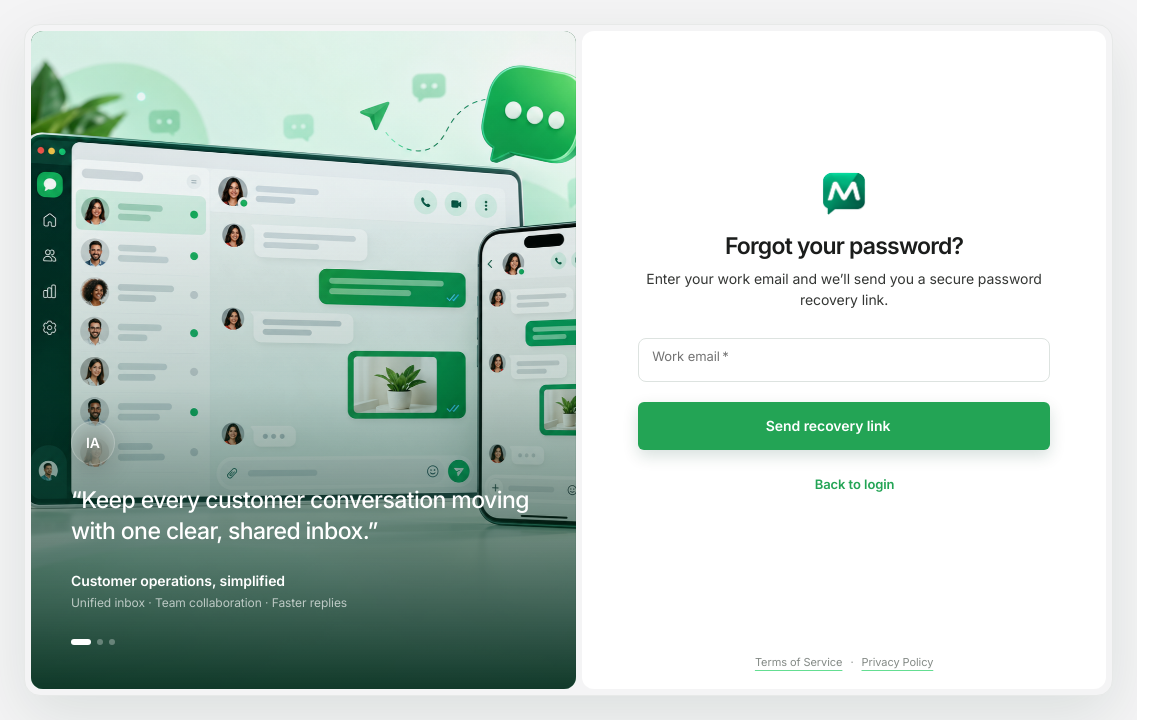
Test: ForgotPassword › shows the API error and stays on the form when delivery fails
Type "owner@example.com" into the field labelled "Work email" at (844, 360), box [638,349,1050,371]
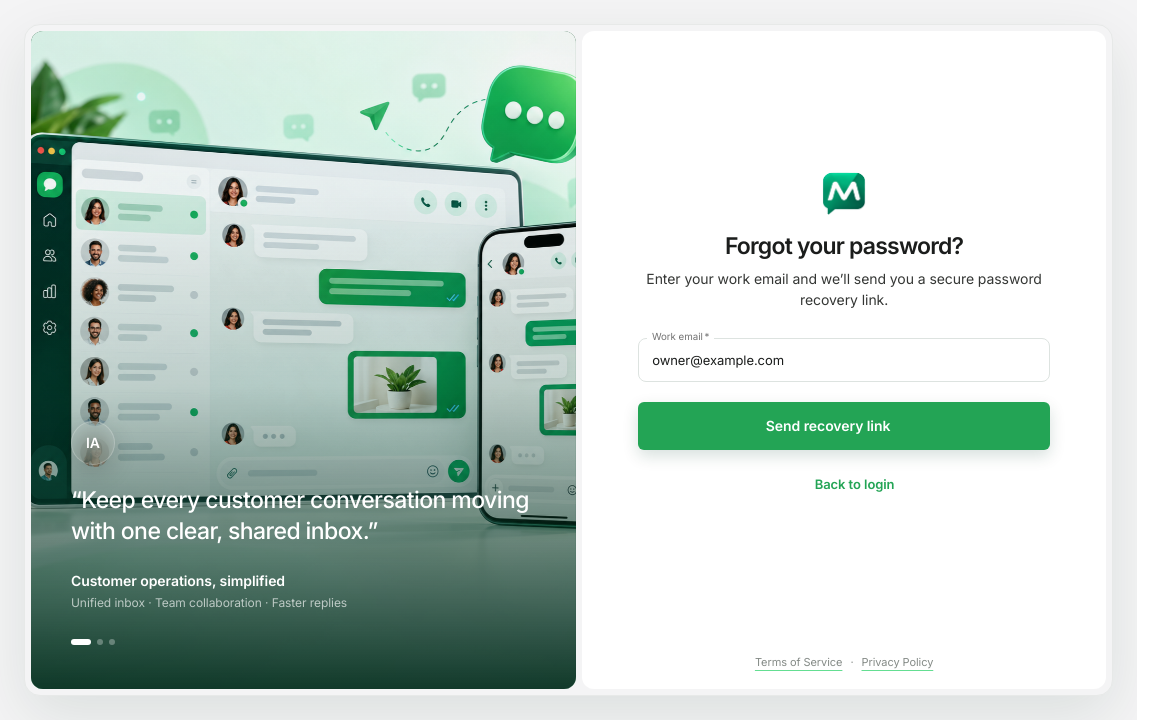
Click the button "Send recovery link" at (844, 426), box [638,402,1050,450]
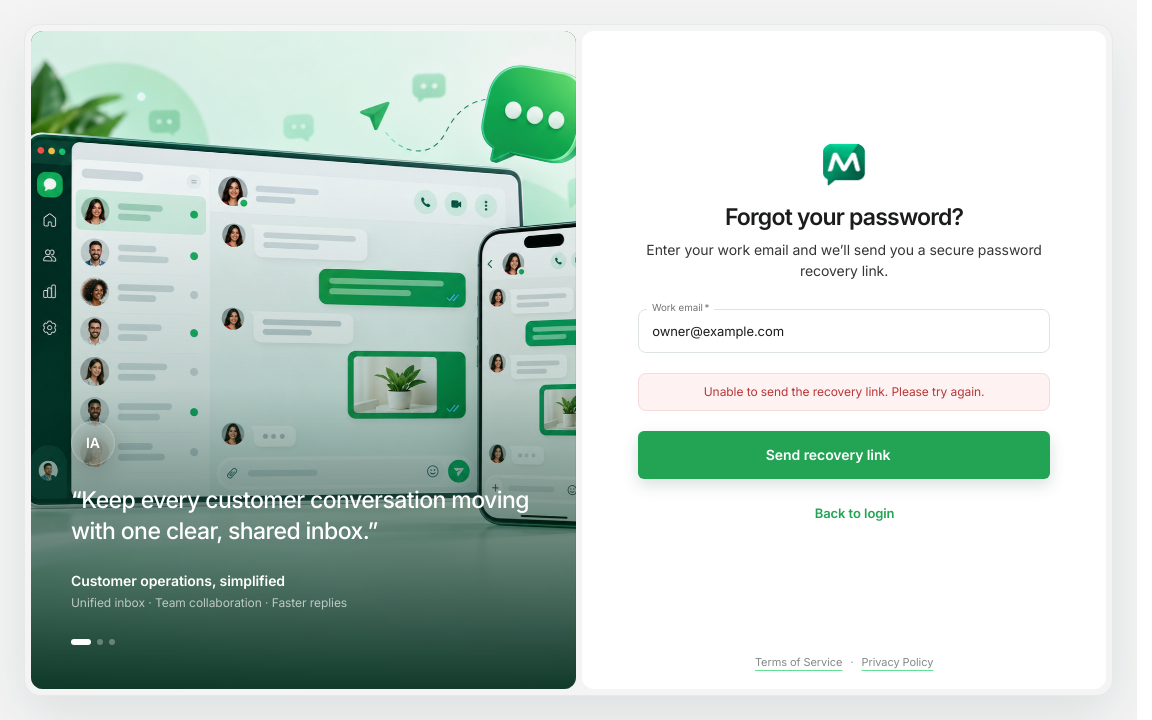
Check: the heading "Forgot your password?" is shown, box [725,203,963,231]
Check: the message shows "Unable to send the recovery link", box [704,384,984,399]
